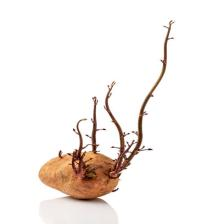Sprouted potato: (32, 49, 150, 198)
